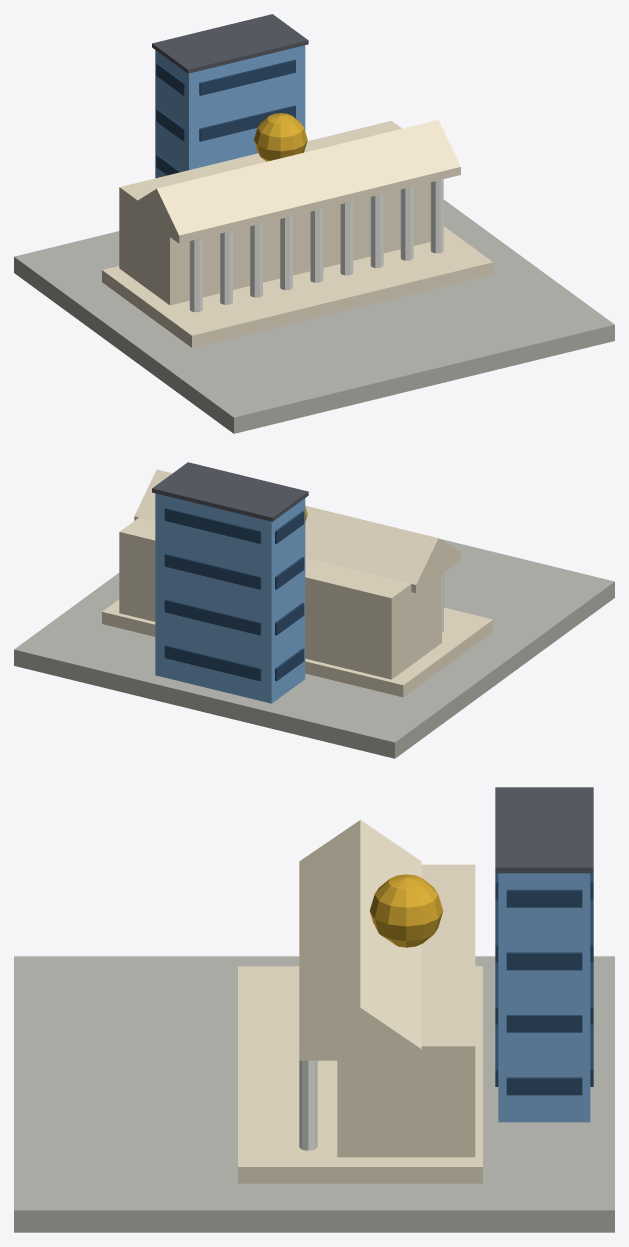
File: finance_income_3.glb
3 views of the same model, one above another, from view 1: azimuth 30°, elevation 25°; view 2: azimuth 150°, elevation 25°; view 3: azimuth 270°, elevation 25° (orthographic). The views are drawn at different scales.
Parts seen in each view (by area): view 1: finance_income_3; view 2: finance_income_3; view 3: finance_income_3.
Part boxes in pixels (x1,y1,x2,y2): finance_income_3: (14, 14, 614, 433); finance_income_3: (14, 462, 614, 758); finance_income_3: (14, 787, 614, 1232).
Size of the model in its own units: 1.96 by 1 by 1.96.
